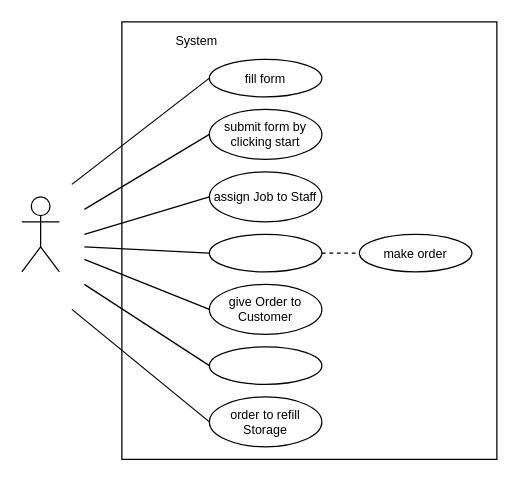
Some shapes in this 519 by 481 pixel diagram are drawn without their labels. Here are the shapes that lost their labels. From the top down, the centre of each, then its label:
At [40,234]: "User".
At [265,252]: "click container".
At [265,365]: "refill Container".
